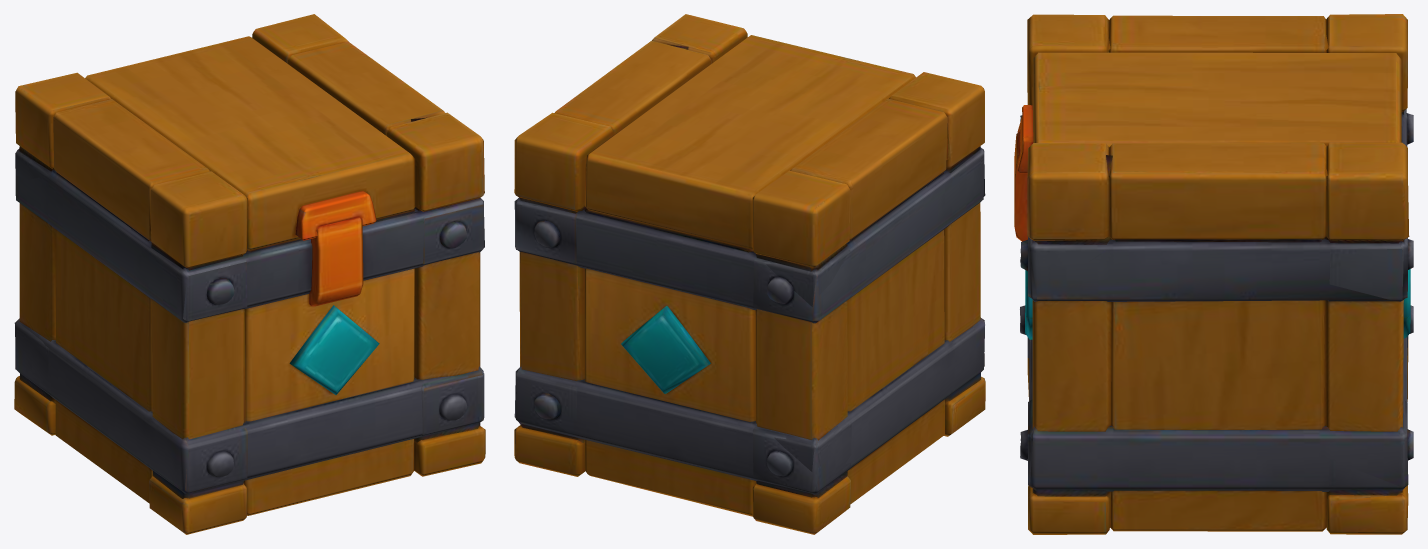
File: tier-1-small.glb
3 views of the same model, side by side, from view 1: azimuth 30°, elevation 25°; view 2: azimuth 150°, elevation 25°; view 3: azimuth 270°, elevation 25° (orthographic). The views are drawn at different scales.
Visible parts, largest first — view 1: tier-1-small; view 2: tier-1-small; view 3: tier-1-small.
Boxes of the visible parts, x1=… form: tier-1-small: x1=14, y1=14, x2=485, y2=534; tier-1-small: x1=514, y1=14, x2=985, y2=534; tier-1-small: x1=1014, y1=14, x2=1413, y2=534.
Bounding box in the file's own units: 0.7789 × 0.7997 × 0.8.
Materials: 1 (1 with a texture image).
